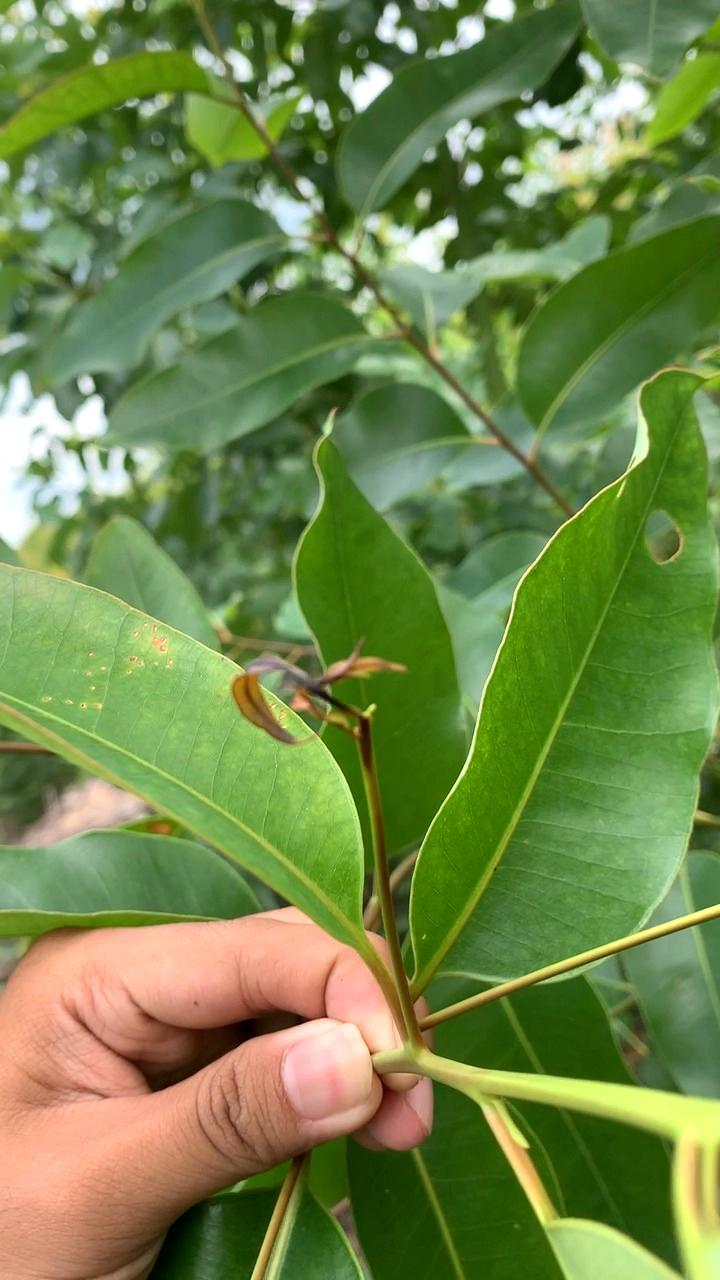Helopeltis-Withered Sprout: (219, 636, 416, 766)
